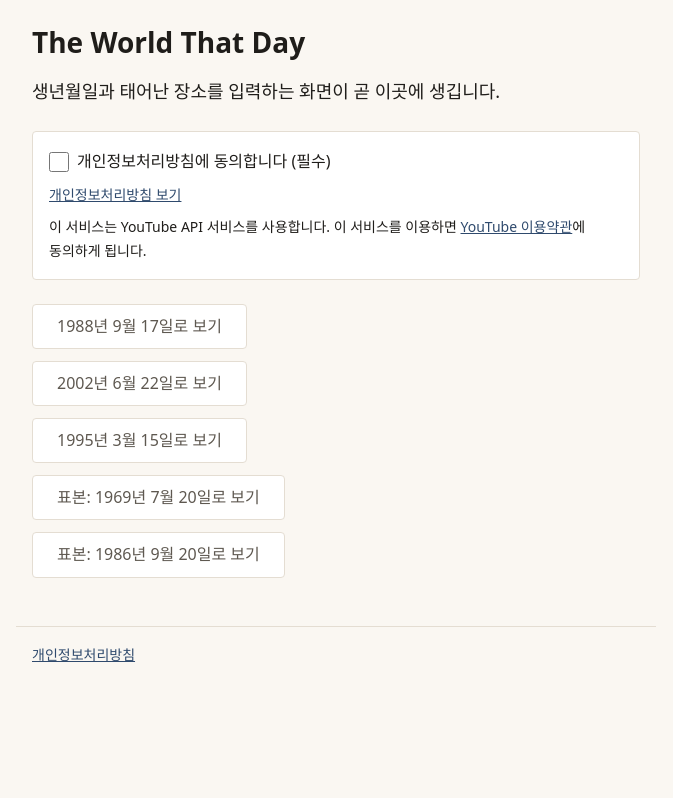
Test: event media and source links (CLAUDE.md 7.1) › hides an event photo whose source is empty, with no link card in its place
This screenshot has width=673, height=798.
Click the checkbox labelled "개인정보처리방침에 동의합니다 (필수)": click(59, 162) x1=49 y1=152 x2=69 y2=172
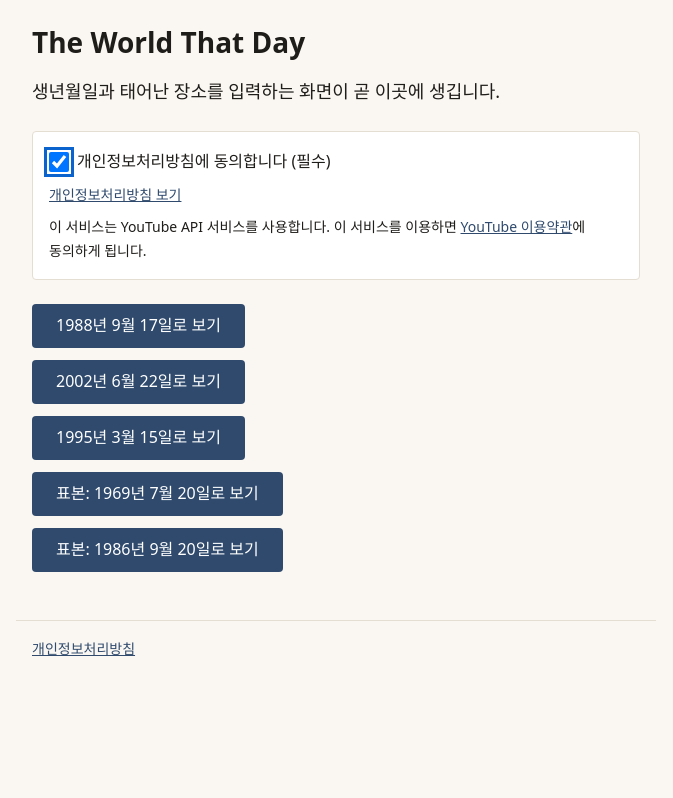
Click the button "1988년 9월 17일로 보기": click(138, 326) x1=32 y1=304 x2=245 y2=348
(page scrolled)
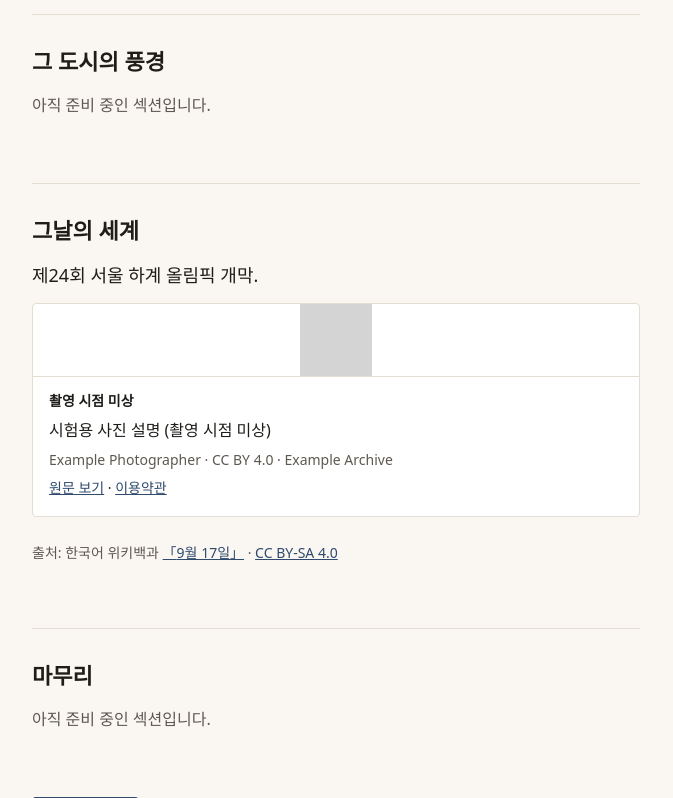
Now the text "촬영 시점 미상" is shown, box x1=49 y1=391 x2=134 y2=410
Now the number of links "원문 보기" is 1, box x1=49 y1=478 x2=104 y2=497
